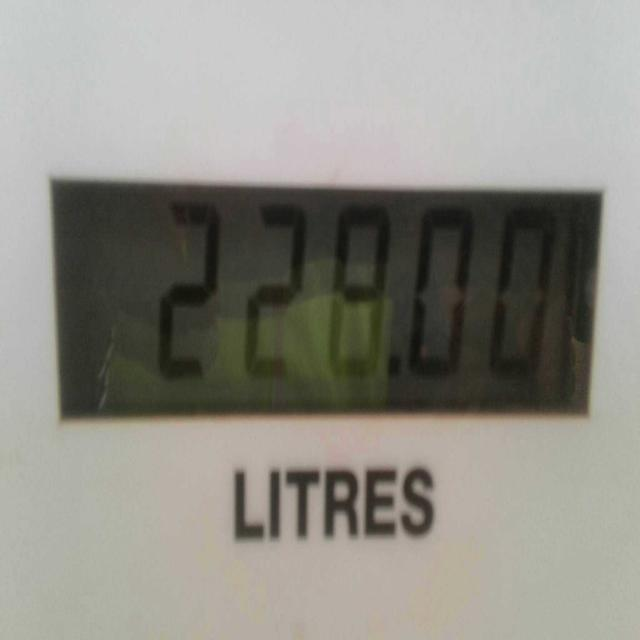.: (390, 353, 403, 375)
0: (413, 203, 473, 375), (488, 203, 544, 370)
2: (160, 199, 217, 382), (247, 200, 302, 378)
8: (329, 205, 382, 378)
